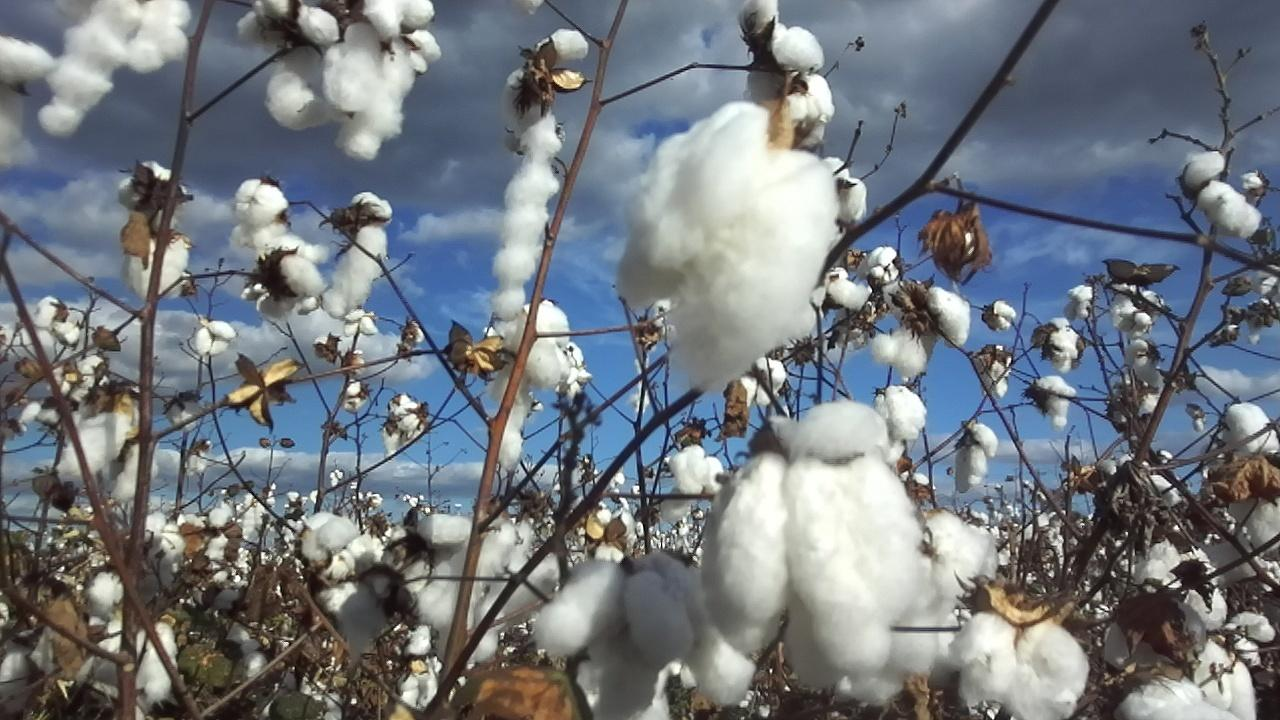cotton_ready: (617, 100, 836, 385), (700, 399, 920, 675), (537, 550, 749, 719), (842, 517, 1002, 708), (493, 27, 590, 317), (342, 510, 471, 670), (40, 0, 190, 133), (324, 0, 443, 159), (946, 614, 1090, 720), (488, 300, 565, 461), (469, 519, 559, 656), (740, 0, 837, 119), (59, 394, 152, 501), (85, 514, 182, 615), (1225, 397, 1280, 561), (874, 287, 972, 374), (325, 190, 394, 313), (300, 512, 376, 617), (227, 180, 324, 261), (1179, 150, 1262, 241), (1137, 539, 1262, 594), (0, 35, 59, 149), (89, 624, 174, 698), (1104, 610, 1205, 672), (264, 44, 336, 130), (243, 252, 325, 318), (1121, 677, 1245, 720), (236, 0, 342, 50), (0, 602, 50, 700), (874, 384, 930, 462), (399, 630, 452, 710), (127, 234, 190, 299), (829, 152, 865, 245), (119, 160, 184, 211), (668, 449, 725, 494), (1185, 585, 1229, 632), (67, 357, 110, 398)
